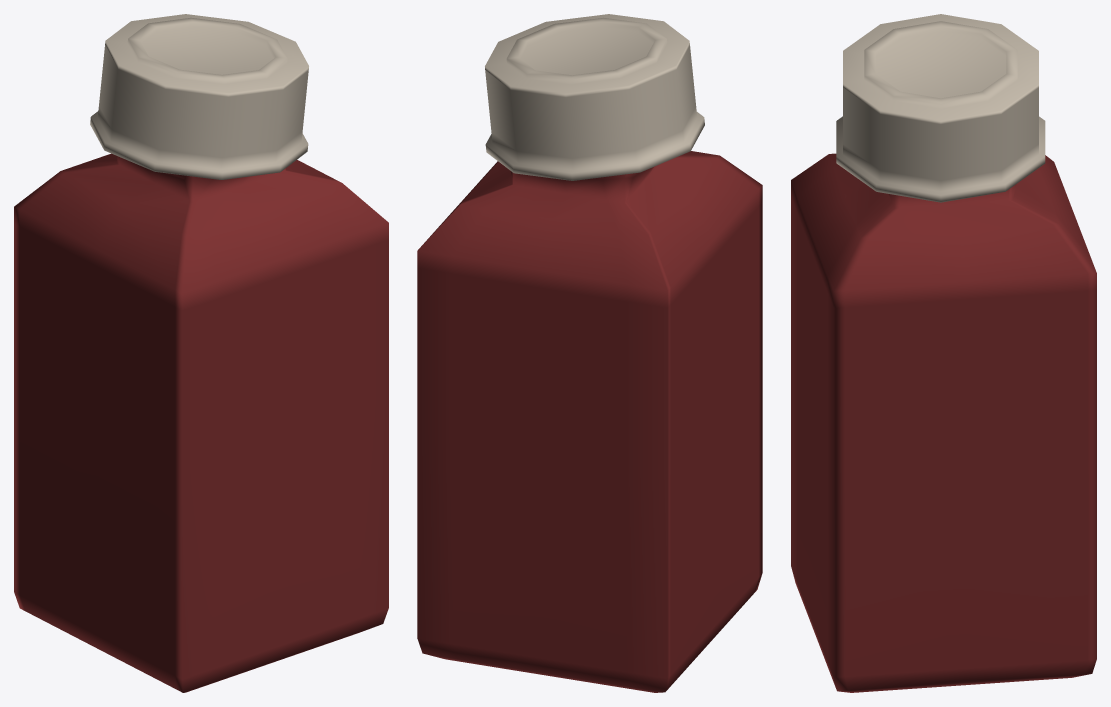
Rendered from Kitchen_set_Kitchen_set_Kitchen_set_Props_grp_Kitchen_set_North_grp_Kitchen_set_NorthWall_grp_Kitchen_set_OilBottle_1.obj.
3 renders of one model, left to right at view 1: azimuth 30°, elevation 25°; view 2: azimuth 150°, elevation 25°; view 3: azimuth 270°, elevation 25°, orthographic.
Parts seen in each view (by area): view 1: Kitchen_set_pCube641 NCCA_Export, NCCA_Export Kitchen_set_pCylinder563; view 2: Kitchen_set_pCube641 NCCA_Export, NCCA_Export Kitchen_set_pCylinder563; view 3: Kitchen_set_pCube641 NCCA_Export, NCCA_Export Kitchen_set_pCylinder563.
Boxes of the visible parts, box(x1,y1,x2,y2) form: Kitchen_set_pCube641 NCCA_Export: box(14, 153, 388, 692); NCCA_Export Kitchen_set_pCylinder563: box(90, 14, 308, 179); Kitchen_set_pCube641 NCCA_Export: box(417, 151, 762, 692); NCCA_Export Kitchen_set_pCylinder563: box(485, 14, 704, 180); Kitchen_set_pCube641 NCCA_Export: box(791, 153, 1096, 692); NCCA_Export Kitchen_set_pCylinder563: box(836, 14, 1045, 202).
Bounding box in the file's own units: 0.4729 × 1 × 0.4729.
